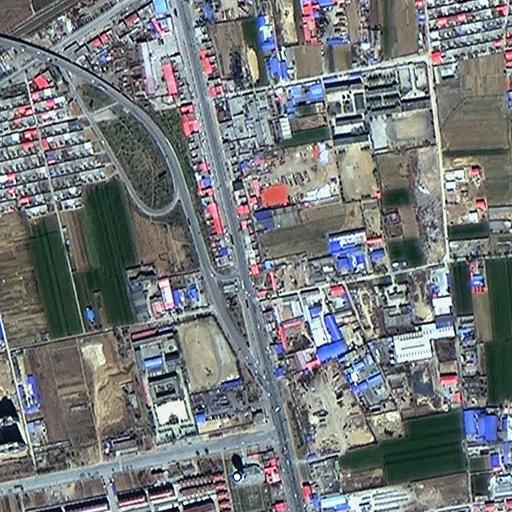school: (128, 312, 227, 442), (323, 74, 379, 207), (363, 62, 432, 146)
